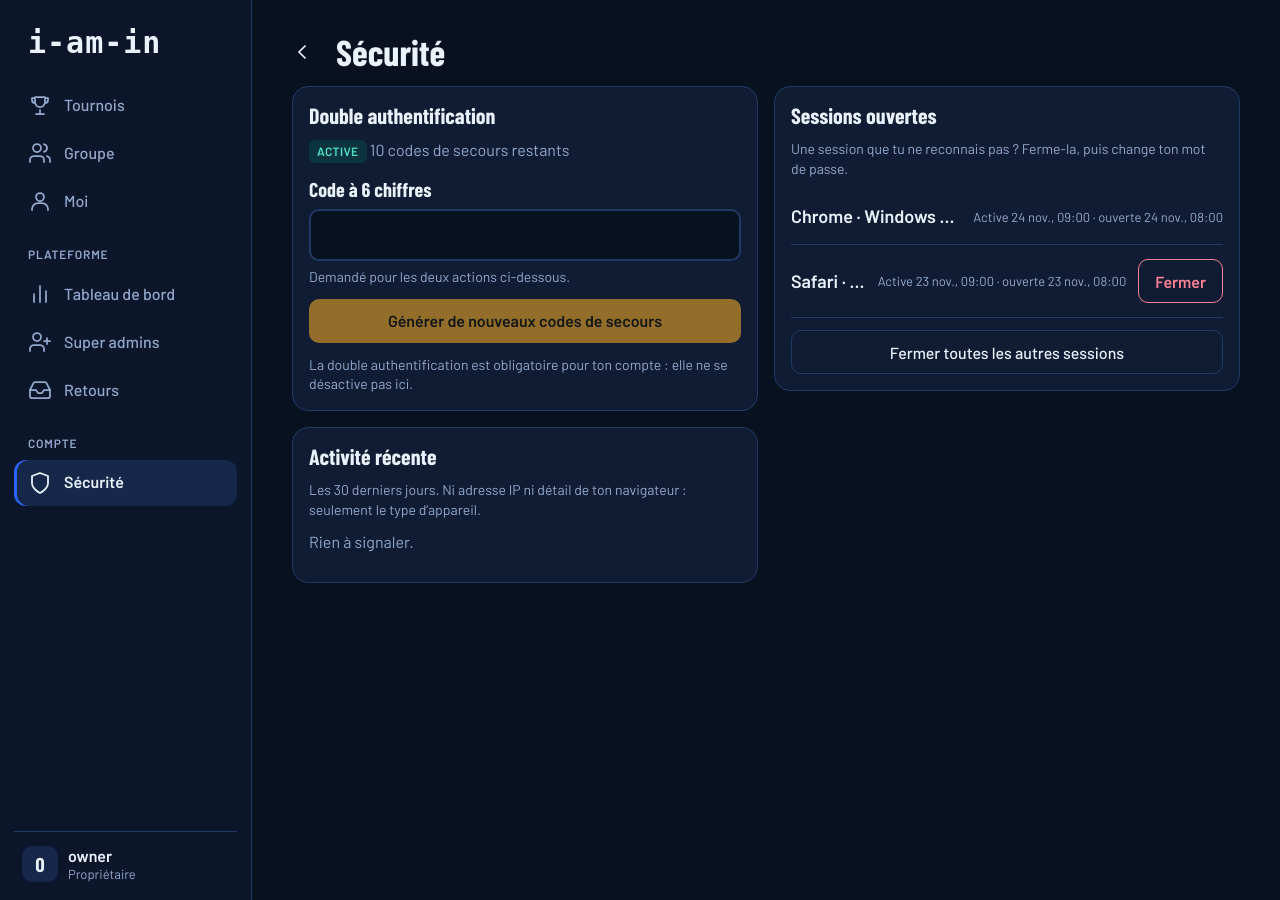
Scenario: sessions et activité › liste les sessions, repère la mienne, et ferme une autre après confirmation
This screenshot has width=1280, height=900.
Expected: the text "Safari · iOS" is shown, [791,269,866,294]
Step 1. Click the button "Fermer" → (1181,281), box [1138,259,1223,303]
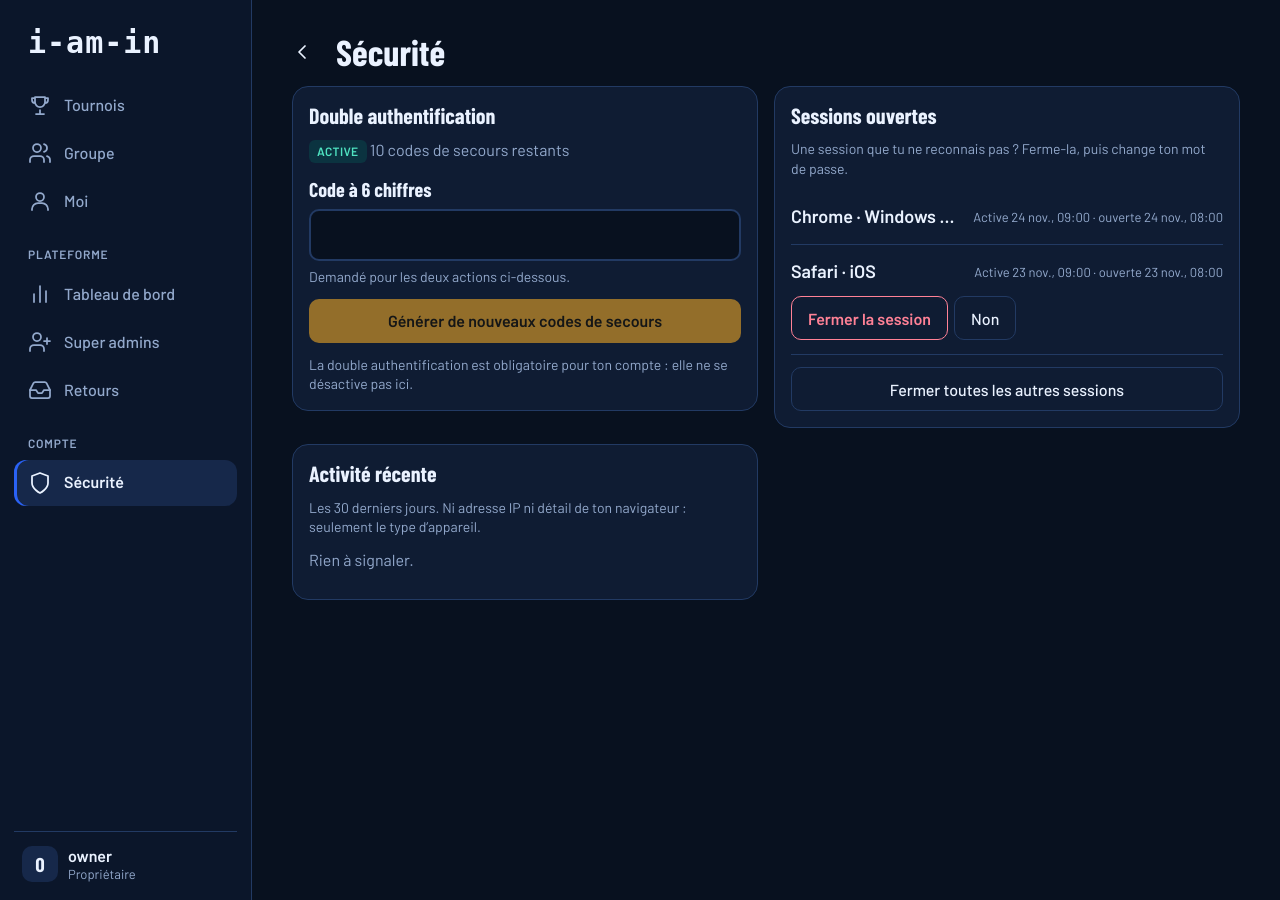
Step 2. Click the button "Fermer la session" → (870,318), box [791,296,948,340]
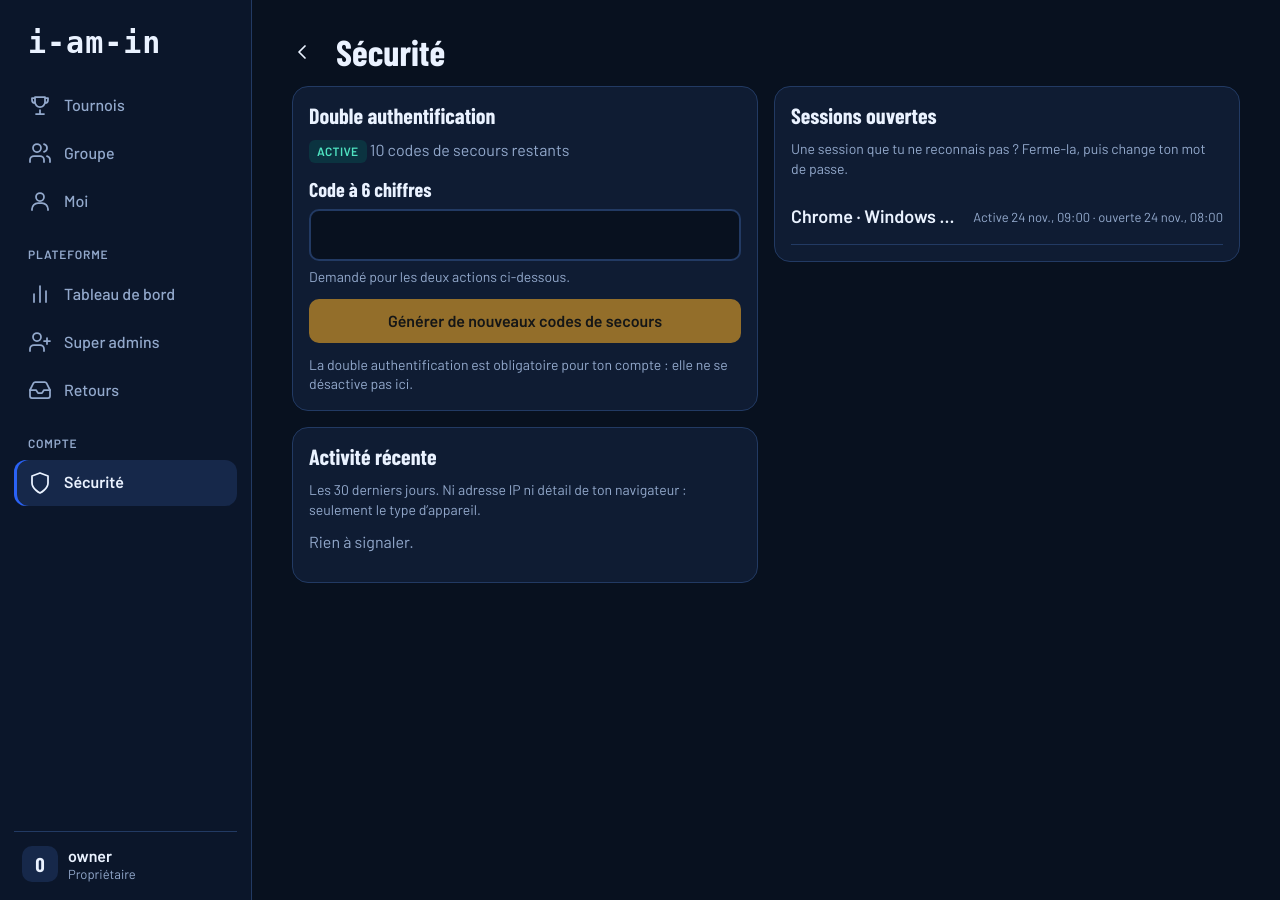
Expected: the text "Safari · iOS" is gone
